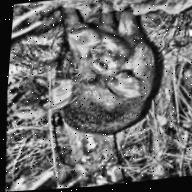boar: (29, 0, 170, 156)
